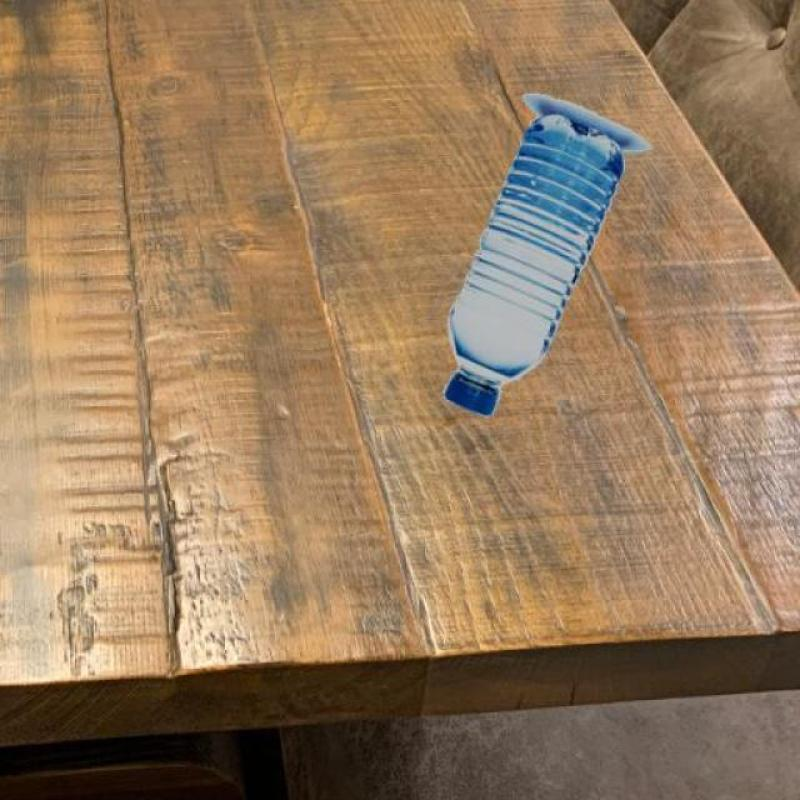botella: (442, 114, 628, 412)
